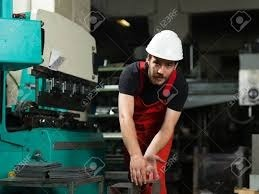helmet: (143, 29, 184, 62)
person with partial safety: (117, 28, 191, 179)
